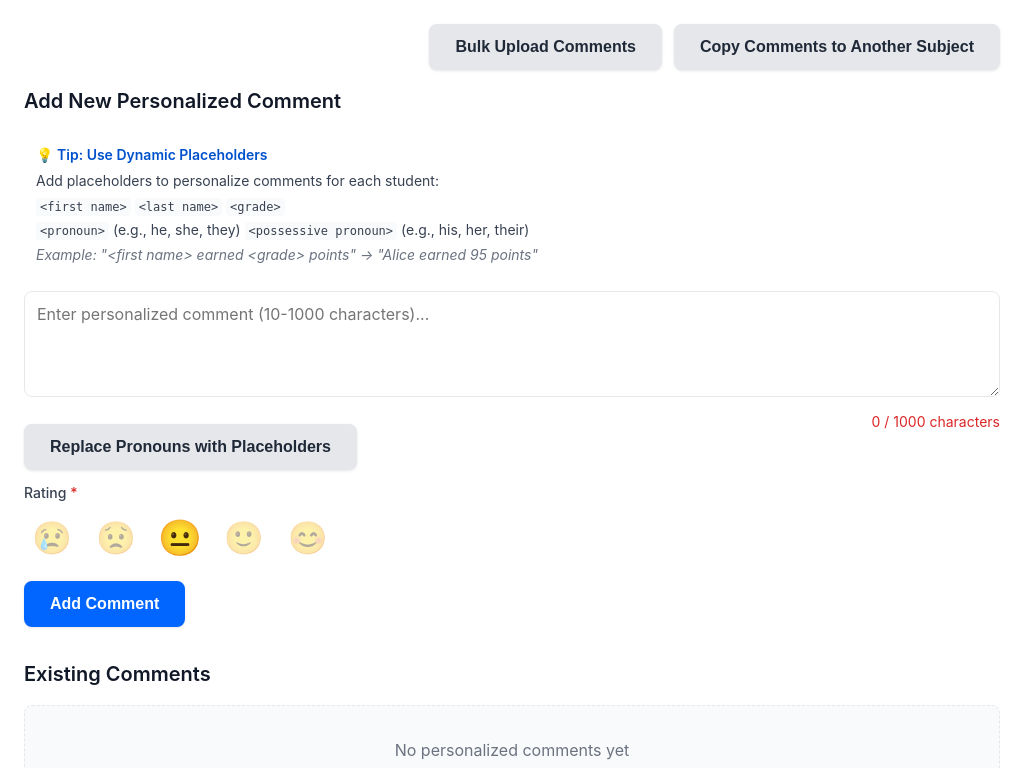
Replace Pronouns Feature - Accessibility & Integration (TASK-1.5) › AC-5.2: Screen Reader Announcements › should display success message with role alert
Type "He is excellent" into the text box named "add new personalized comment" at (512, 344), box [24,291,1000,397]
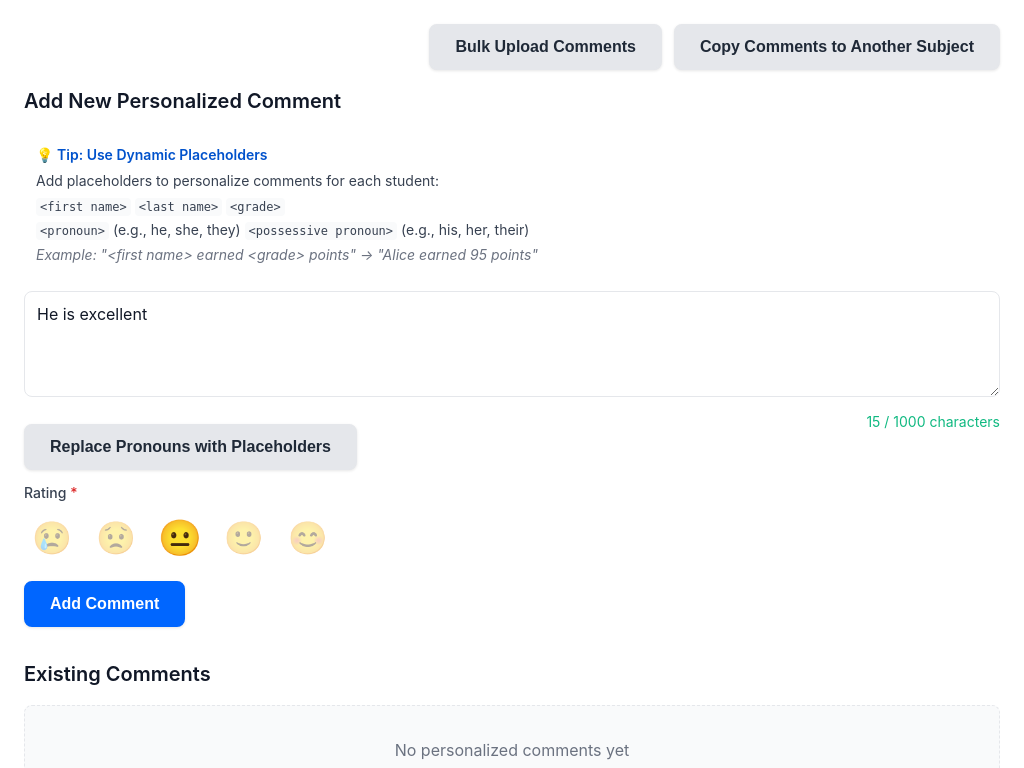
Click the button "Replace Pronouns with Placeholders" at (190, 447), box [24,424,357,470]
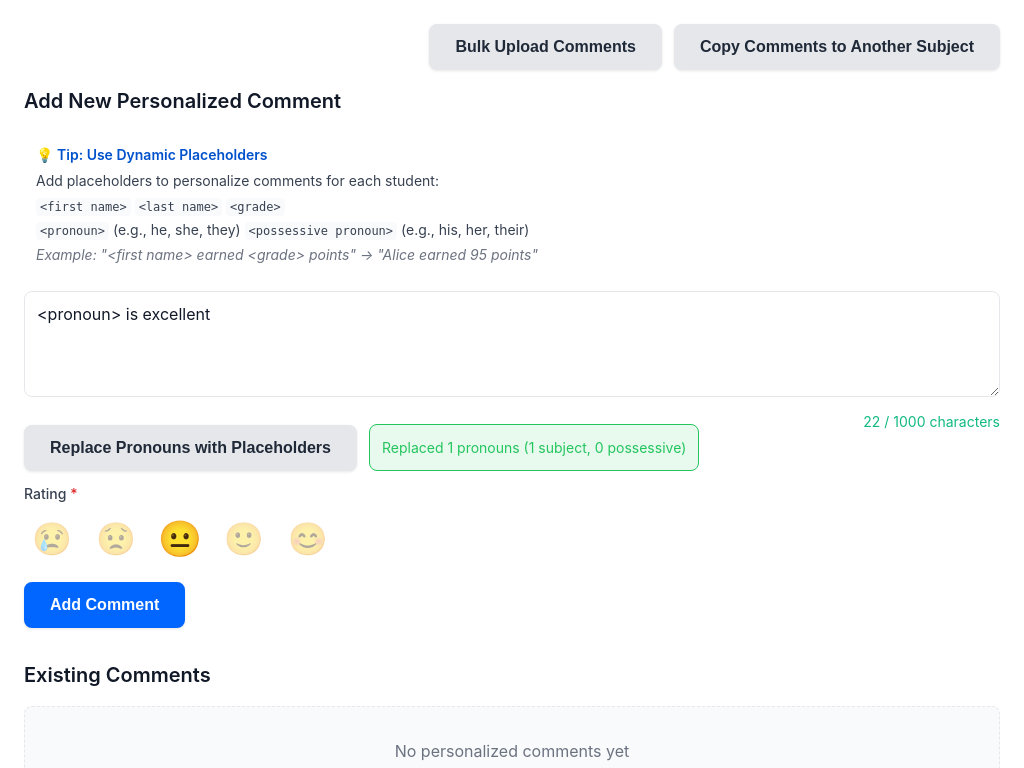
Now the text "Replaced 1 pronouns (1 subject, 0 possessive)" is shown, box [369,424,699,471]
